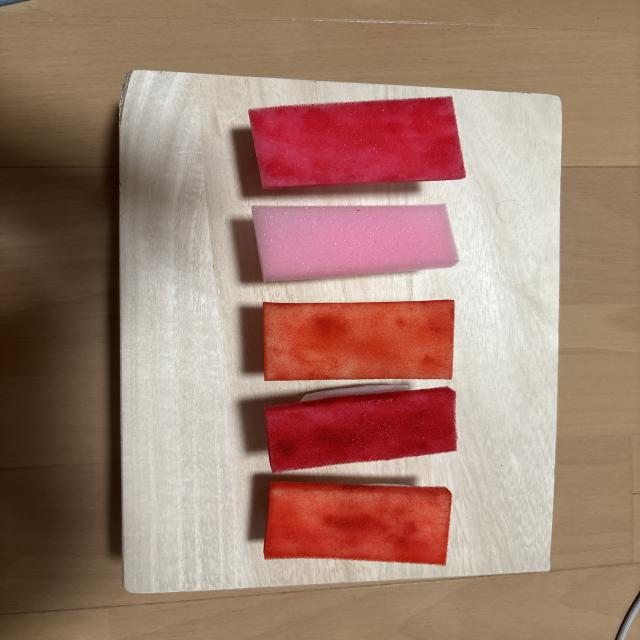maguro: (250, 98, 465, 188), (265, 385, 457, 472)
salmon: (264, 481, 452, 565), (263, 301, 454, 380)
tai: (252, 204, 458, 281)
